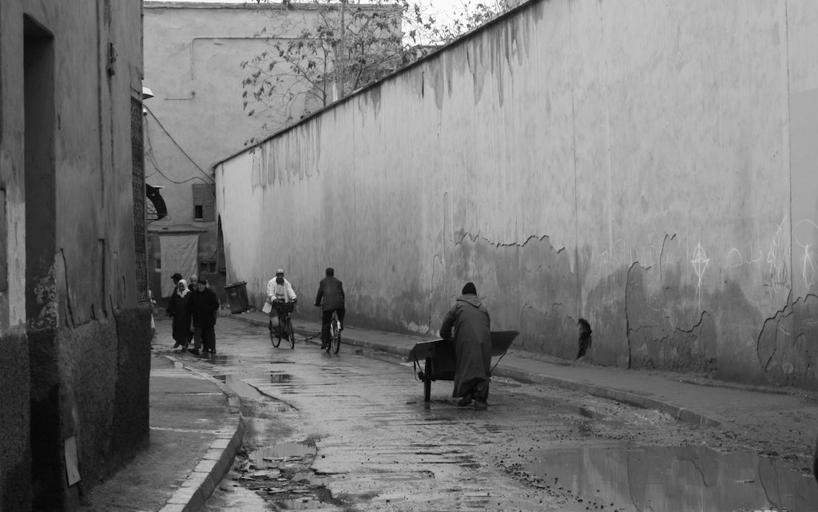non-vehicle: (264, 296, 303, 351), (312, 300, 346, 354)
